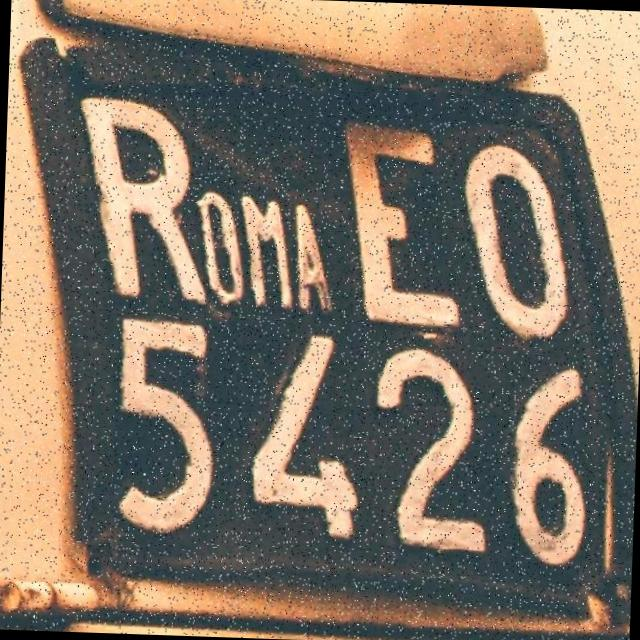LicensePlate: (2, 32, 640, 621)
